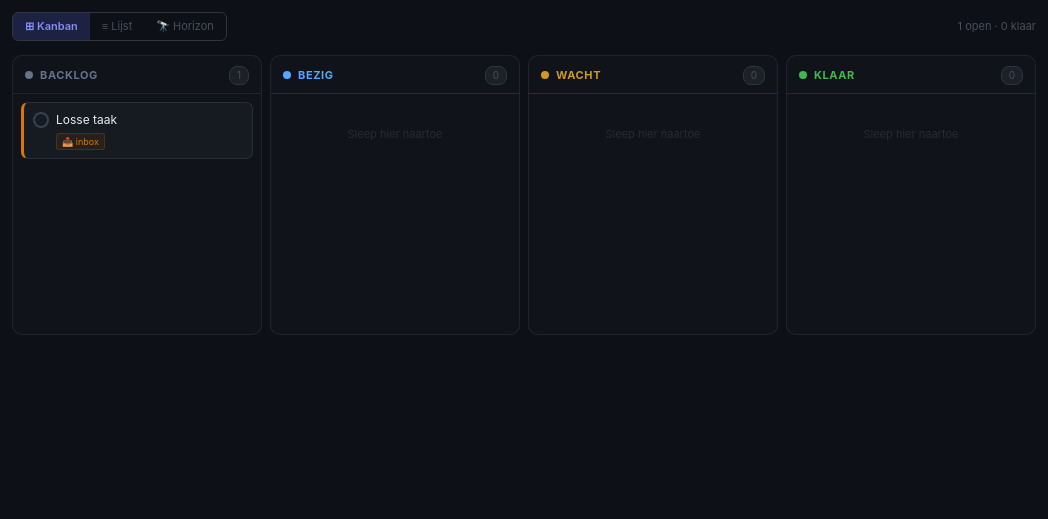
Scenario: TasksTab — horizon-weergave › toont een taak zonder horizon onder "Nog niet ingedeeld"
This screenshot has width=1048, height=519.
Click the button "🔭 Horizon". click: (185, 26)
box: [144,13,226,40]
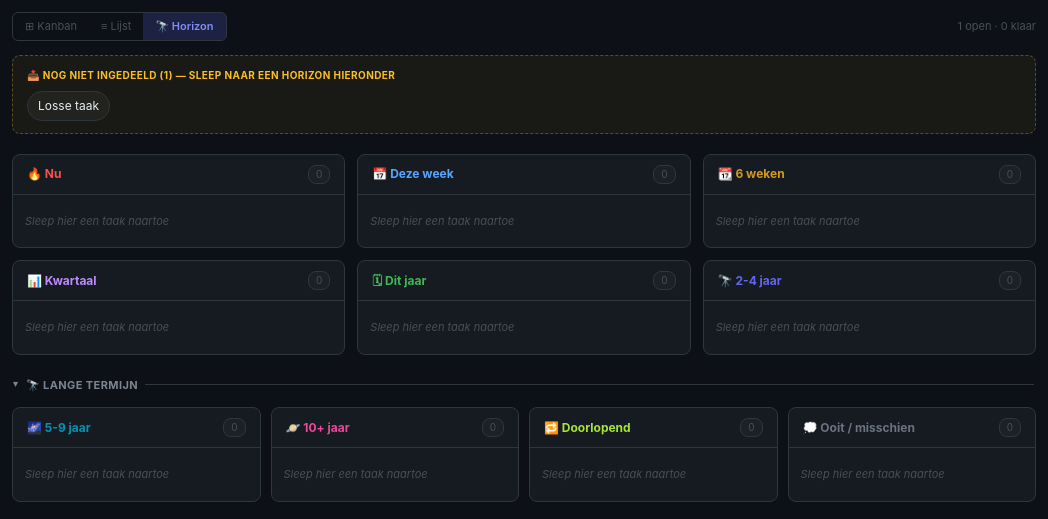
Expected: the text "Losse taak" is shown, [38,96,99,114]
Expected: the text "📥 Nog niet ingedeeld (1) — sleep naar een horizon hieronder" is shown, [27,68,395,80]
